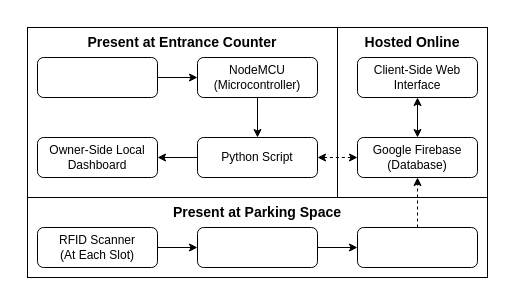
Some shapes in this 514 by 304 pixel diagram are drawn without their labels. Here are the shapes that lost their labels. From the top down, the box of each, then its label:
(36, 56, 158, 98): RFID Scanner (At Front Gate)
(196, 226, 318, 268): Arduino Uno (Microcontroller)
(356, 226, 478, 268): ESP8266 (Wi-Fi Module)
